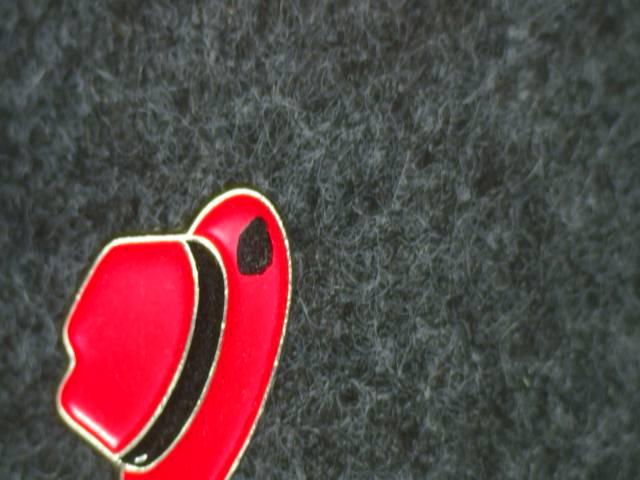Red-Hat: (44, 164, 322, 480)
Scratch: (220, 204, 288, 286)
